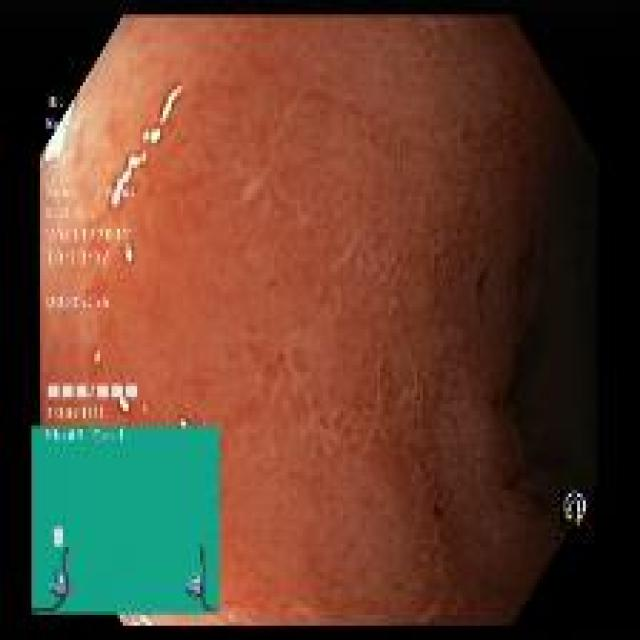ulcerative-colitis: (247, 56, 539, 585)
